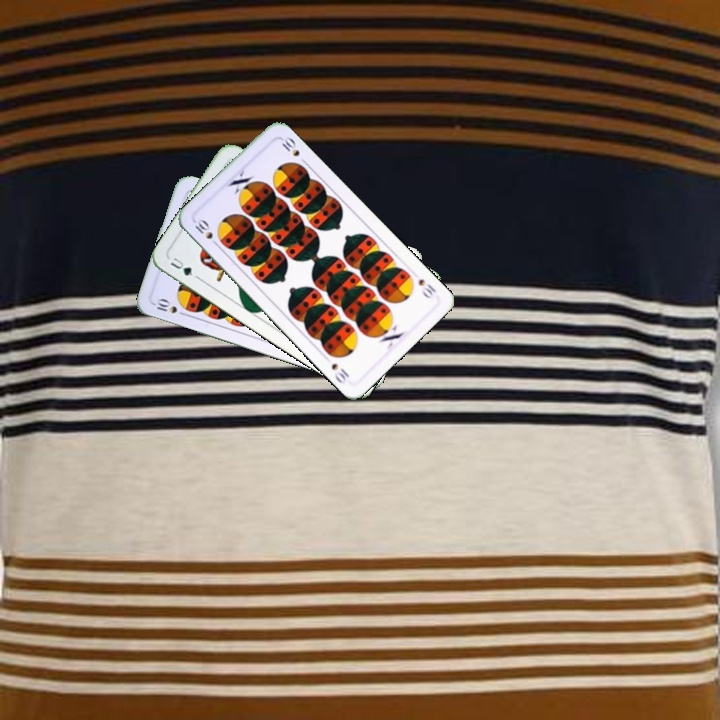GU: (166, 253, 195, 279)
S10: (190, 215, 222, 250), (152, 295, 190, 319), (414, 275, 439, 301)
